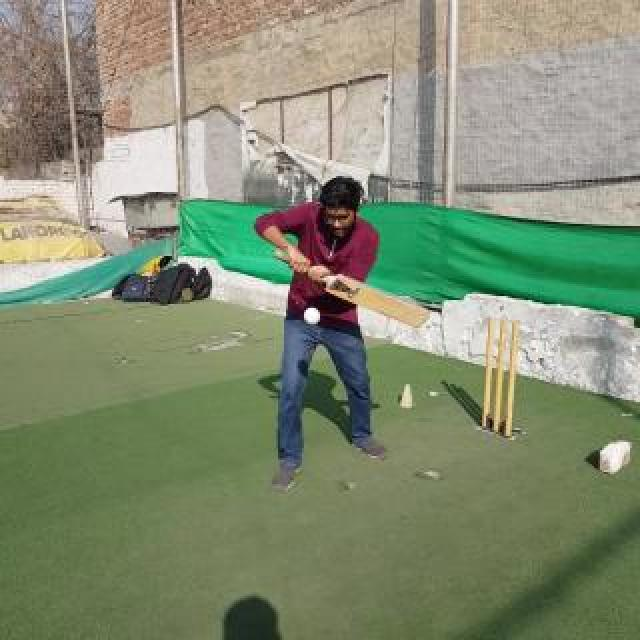ball: (304, 308, 320, 326)
bat: (272, 250, 430, 328)
